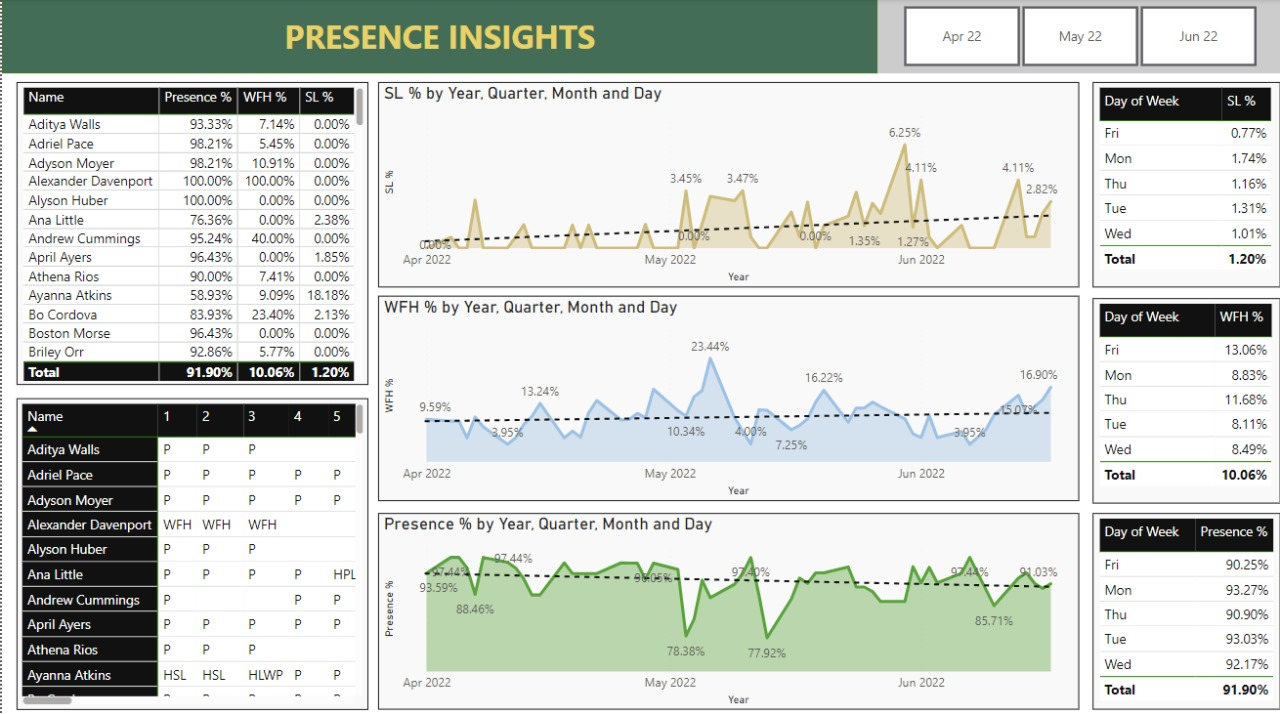

This screenshot's page, from the dashboard's own definition file:
{"tool":"powerbi","page":{"name":"Page 1","canvas":[1280,720],"ordinal":0},"visuals":[{"type":"shape","box":[0,0,876.5,74.6],"z":0},{"type":"textbox","box":[0,11,876.5,63.6],"z":1000},{"type":"slicer","fields":{"Values":["Final Data.Month"]},"box":[876.5,0,403.4,74.6],"z":3000},{"type":"tableEx","fields":{"Values":["Final Data.Name","Measure Table.Presence %","Measure Table.WFH %","Measure Table.SL %"]},"box":[14.7,83.1,352.1,303.2],"z":5000},{"type":"pivotTable","fields":{"Rows":["Final Data.Name"],"Columns":["Final Data.Date.Variation.Date Hierarchy.Year","Final Data.Date.Variation.Date Hierarchy.Quarter","Final Data.Date.Variation.Date Hierarchy.Month","Final Data.Date.Variation.Date Hierarchy.Day"],"Values":["Min(Final Data.Value)"]},"box":[14.7,399.7,352.1,311.7],"z":6000},{"type":"areaChart","fields":{"Category":["Final Data.Date.Variation.Date Hierarchy.Year","Final Data.Date.Variation.Date Hierarchy.Quarter","Final Data.Date.Variation.Date Hierarchy.Month","Final Data.Date.Variation.Date Hierarchy.Day"],"Y":["Measure Table.Presence %"]},"box":[376.5,514.6,701.7,196.8],"z":7000},{"type":"areaChart","fields":{"Category":["Final Data.Date.Variation.Date Hierarchy.Year","Final Data.Date.Variation.Date Hierarchy.Quarter","Final Data.Date.Variation.Date Hierarchy.Month","Final Data.Date.Variation.Date Hierarchy.Day"],"Y":["Measure Table.WFH %"]},"box":[376.5,297,701.7,205.4],"z":8000},{"type":"areaChart","fields":{"Category":["Final Data.Date.Variation.Date Hierarchy.Year","Final Data.Date.Variation.Date Hierarchy.Quarter","Final Data.Date.Variation.Date Hierarchy.Month","Final Data.Date.Variation.Date Hierarchy.Day"],"Y":["Measure Table.SL %"]},"box":[376.5,83.1,701.7,205.4],"z":9000},{"type":"tableEx","fields":{"Values":["Final Data.Day of Week","Measure Table.SL %"]},"box":[1091.6,83.1,188.3,205.4],"z":10000},{"type":"tableEx","fields":{"Values":["Final Data.Day of Week","Measure Table.Presence %"]},"box":[1091.6,514.6,188.3,196.8],"z":11000},{"type":"tableEx","fields":{"Values":["Final Data.Day of Week","Measure Table.WFH %"]},"box":[1091.6,298.9,188.3,205.4],"z":12000}]}

Visuals, with their boxes in screenshot pixels (x1, y1, x2, y2), scaled from the page's 1280x720 canvas onto the 1280x714 screenshot:
shape: locate(0, 0, 876, 74)
textbox: locate(0, 11, 876, 74)
slicer - Final Data.Month: locate(876, 0, 1279, 74)
tableEx - Final Data.Name x Measure Table.Presence %: locate(15, 82, 367, 383)
pivotTable - Final Data.Name x Final Data.Date.Variation.Date Hierarchy.Year: locate(15, 396, 367, 705)
areaChart - Final Data.Date.Variation.Date Hierarchy.Year x Final Data.Date.Variation.Date Hierarchy.Quarter: locate(376, 510, 1078, 705)
areaChart - Final Data.Date.Variation.Date Hierarchy.Year x Final Data.Date.Variation.Date Hierarchy.Quarter: locate(376, 295, 1078, 498)
areaChart - Final Data.Date.Variation.Date Hierarchy.Year x Final Data.Date.Variation.Date Hierarchy.Quarter: locate(376, 82, 1078, 286)
tableEx - Final Data.Day of Week x Measure Table.SL %: locate(1092, 82, 1279, 286)
tableEx - Final Data.Day of Week x Measure Table.Presence %: locate(1092, 510, 1279, 705)
tableEx - Final Data.Day of Week x Measure Table.WFH %: locate(1092, 296, 1279, 500)
